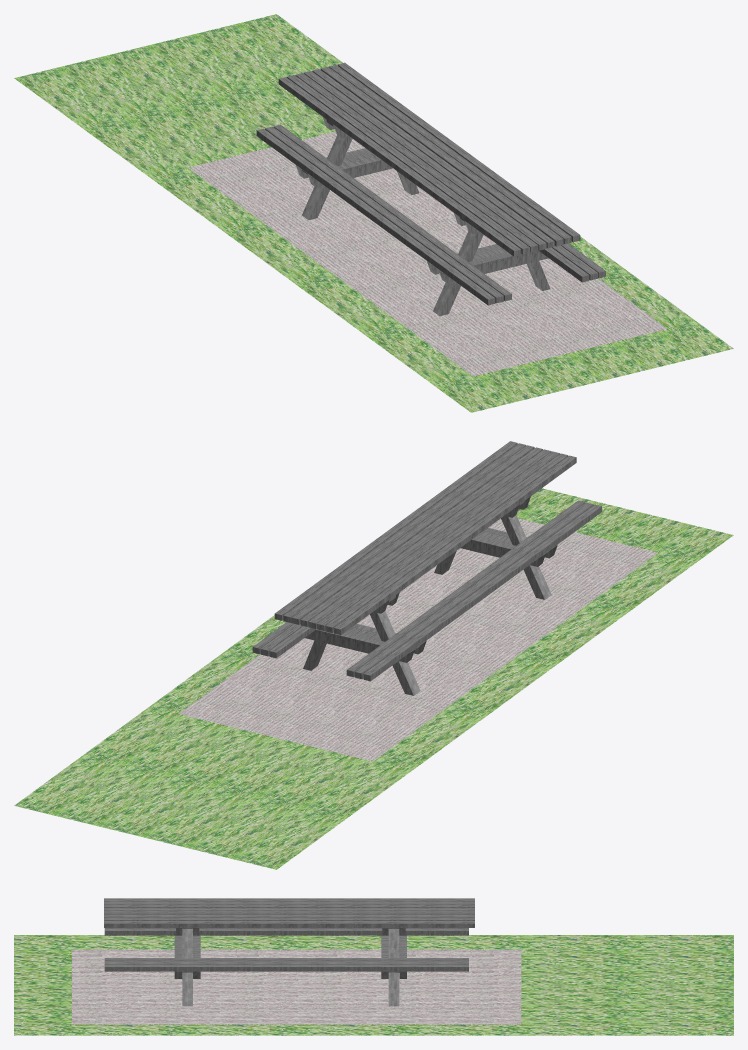
The model's file is measa.fbx.
3 views of the same model, one above another, from view 1: azimuth 30°, elevation 25°; view 2: azimuth 150°, elevation 25°; view 3: azimuth 270°, elevation 25° (orthographic). The views are drawn at different scales.
Parts seen in each view (by area): view 1: Mesa_con_asientos_en_peque_o_parque_de_Sondika1; view 2: Mesa_con_asientos_en_peque_o_parque_de_Sondika1; view 3: Mesa_con_asientos_en_peque_o_parque_de_Sondika1.
Part boxes in pixels (<box>): Mesa_con_asientos_en_peque_o_parque_de_Sondika1: <box>14,14,733,412</box>; Mesa_con_asientos_en_peque_o_parque_de_Sondika1: <box>14,441,733,869</box>; Mesa_con_asientos_en_peque_o_parque_de_Sondika1: <box>14,898,733,1035</box>.
Bounding box in the file's own units: 2.15 × 0.7448 × 6.47.
